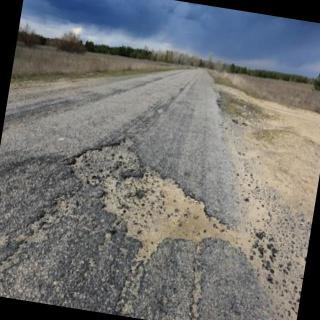pothole: (67, 138, 227, 257)
